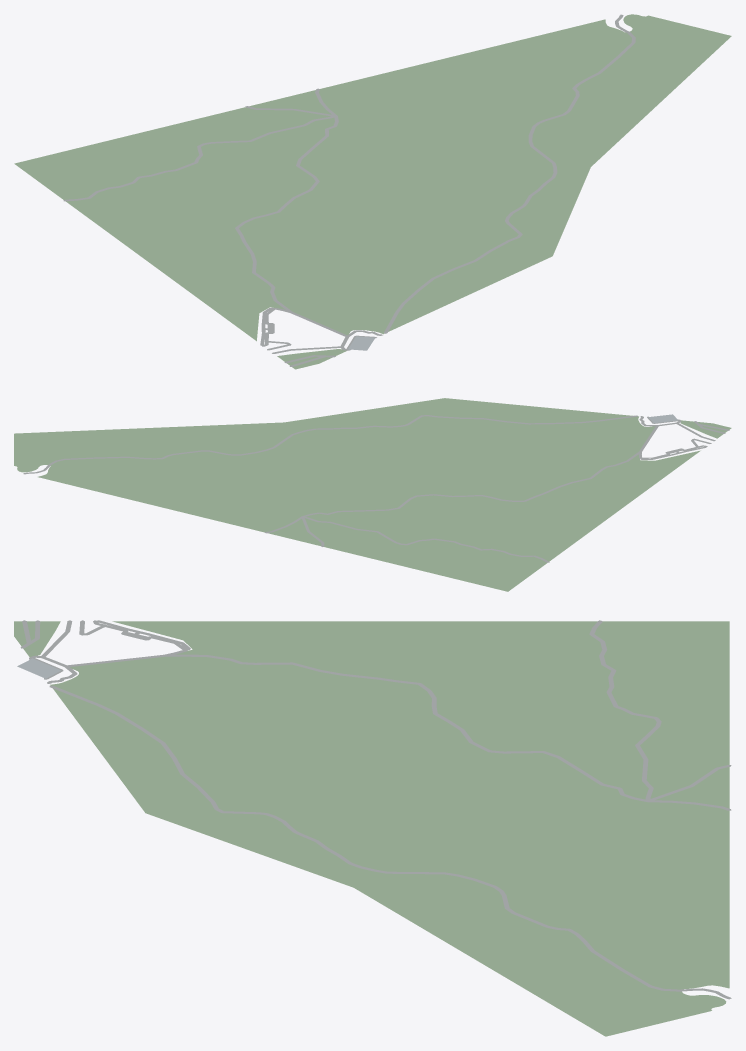
Rendered from 19_4-known-coarse.glb.
The picture shows the model from 3 angles, top to bottom: view 1: azimuth 30°, elevation 25°; view 2: azimuth 150°, elevation 25°; view 3: azimuth 270°, elevation 25°; orthographic projection. The views are drawn at different scales.
Size of the model in its own units: 612 by 0.15 by 446.
